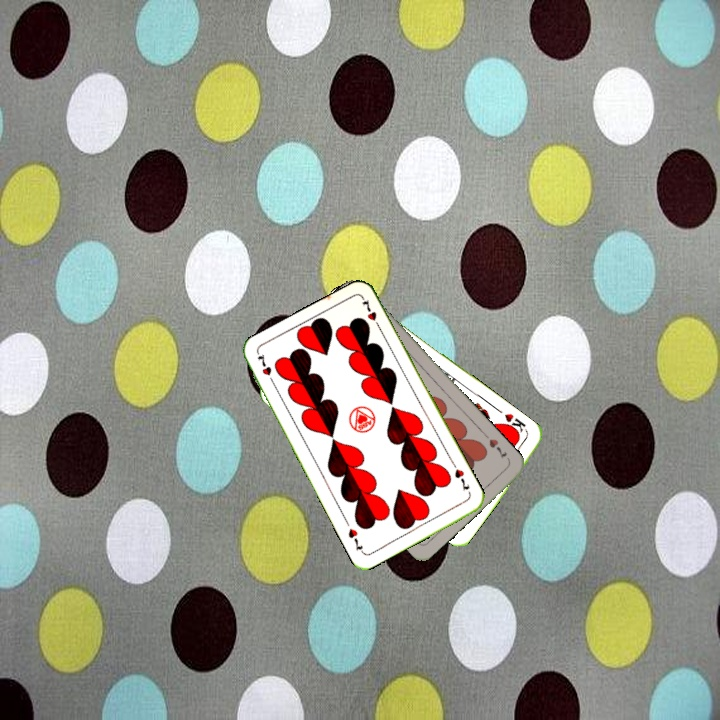H7: (253, 350, 278, 388), (449, 459, 472, 494), (485, 435, 510, 461)
HK: (499, 409, 531, 438)
